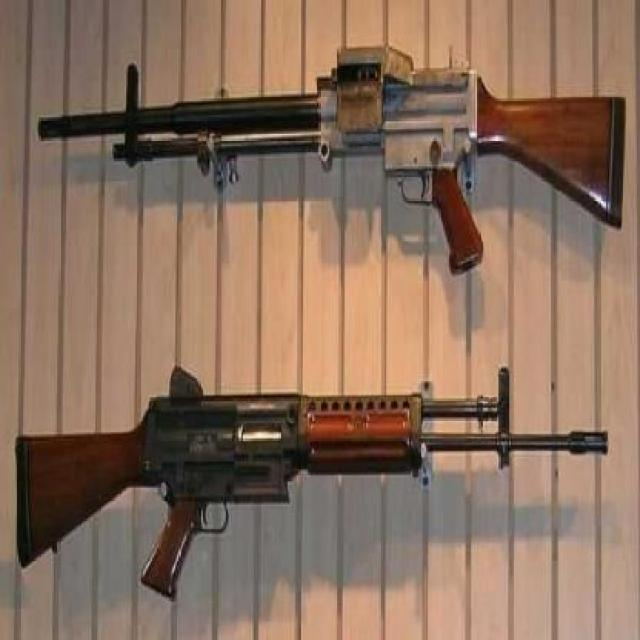weapon: (11, 364, 606, 600), (36, 39, 628, 272)
